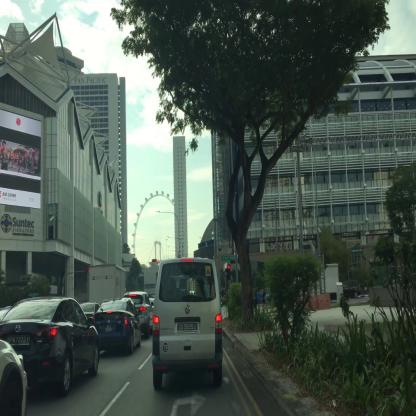red_traffic_light: (227, 263, 230, 280), (152, 258, 156, 262)
